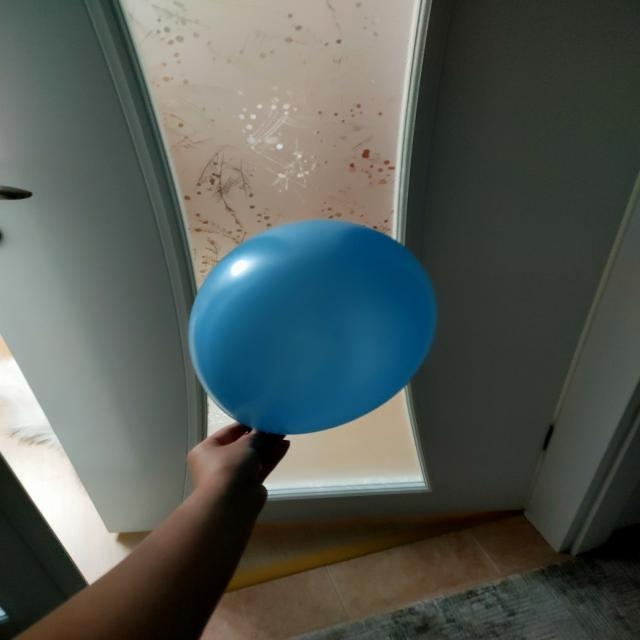blue: (193, 221, 437, 437)
